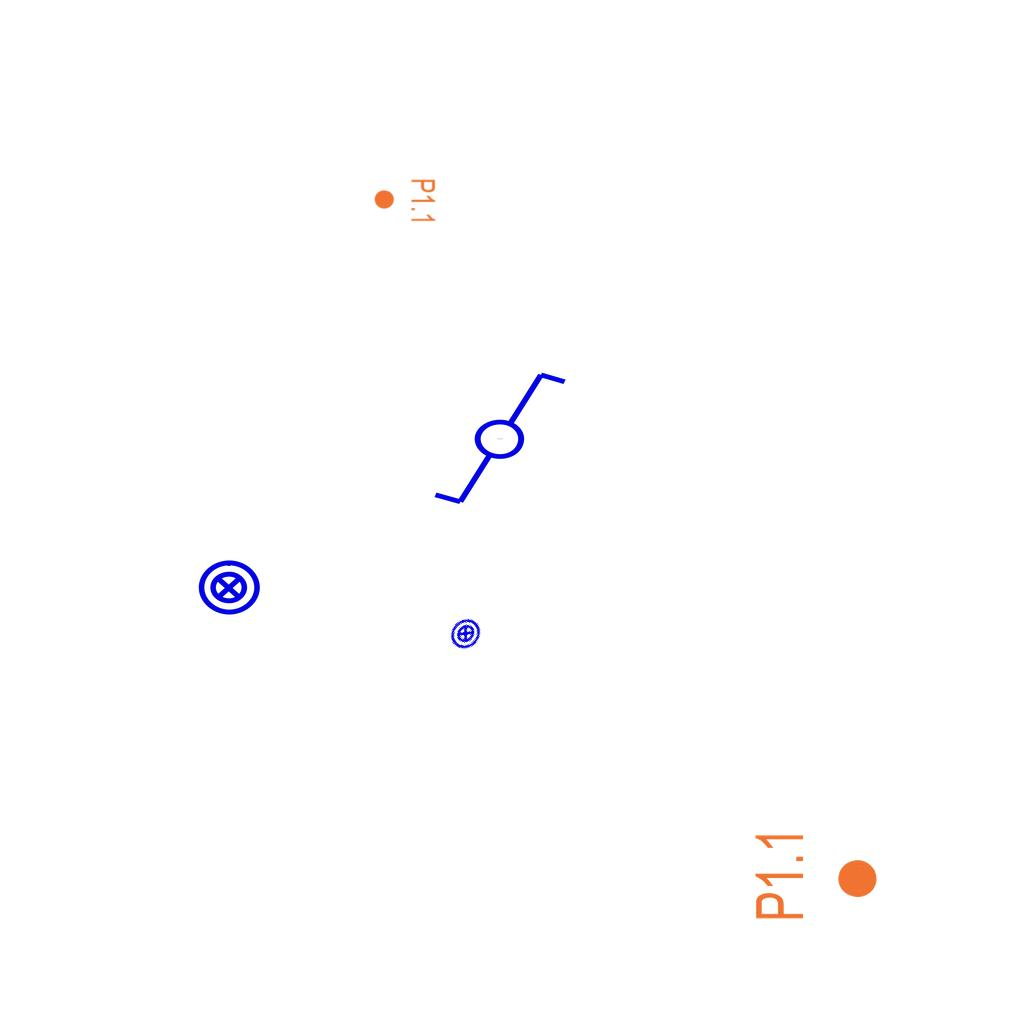Downlight_LED_Einbauleuchten_Flur: (752, 829, 880, 922), (373, 178, 437, 224)
Taster_beleuchtet: (196, 555, 262, 621), (442, 610, 489, 657)
Wechselschalter: (413, 365, 570, 509)
